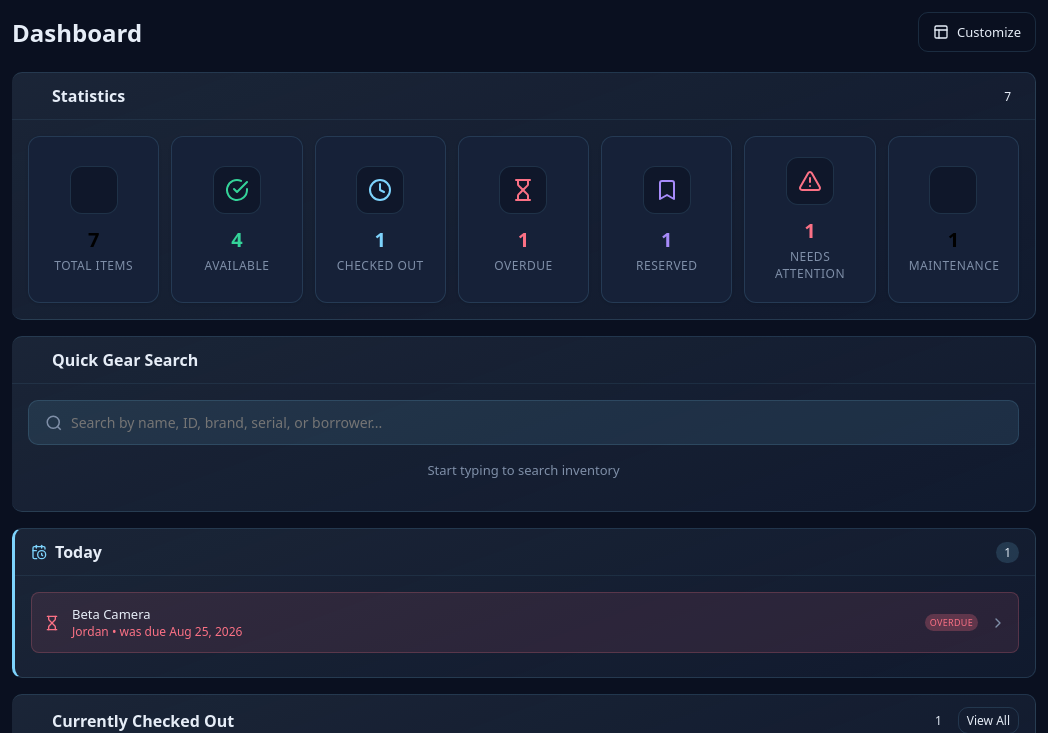
Scenario: Dashboard accessibility and copy › section headers are buttons with aria-expanded that toggle collapse
What coordinates should you click on to do the following:
click the button "Statistics 7"
I would click on:
 (89, 96)
Its box is x1=28 y1=85 x2=1019 y2=107.
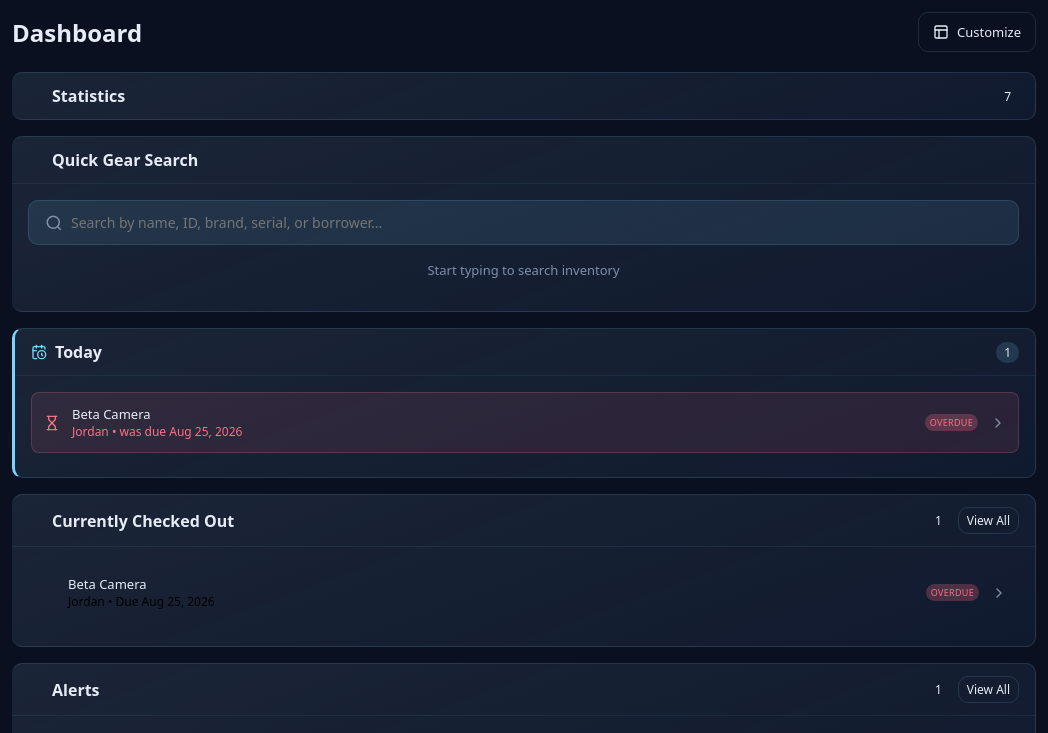
Expected: the button "Total Items" is gone
